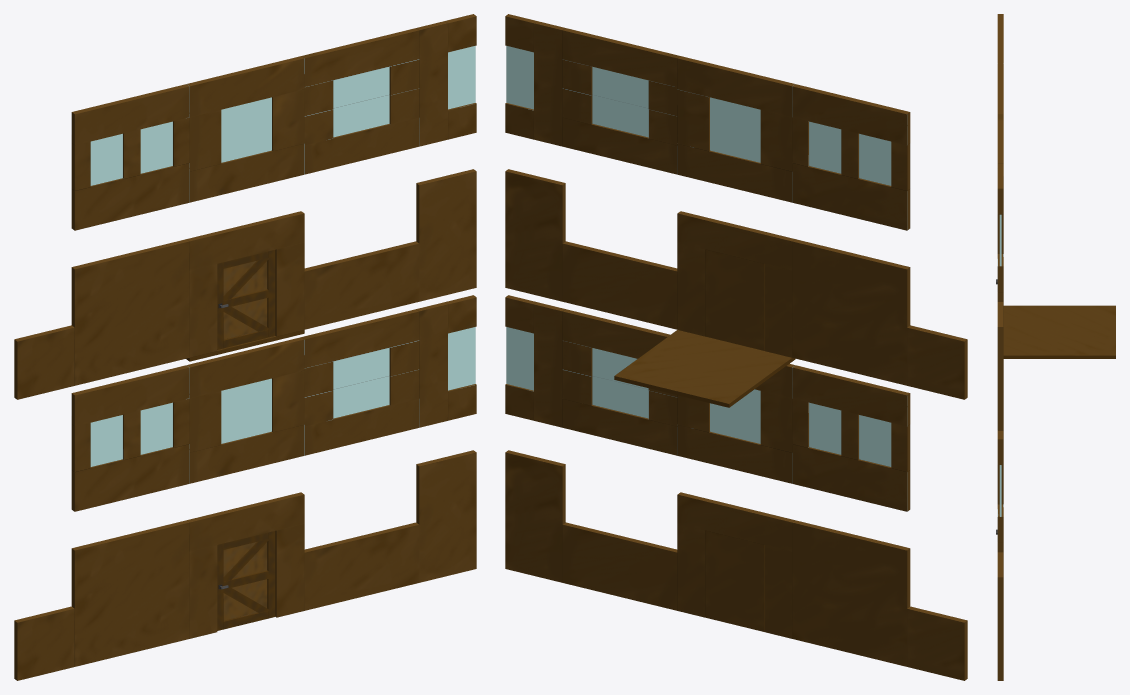
File: BuildingObjects.fbx
3 views of the same model, side by side, from view 1: azimuth 30°, elevation 25°; view 2: azimuth 150°, elevation 25°; view 3: azimuth 270°, elevation 25° (orthographic). The views are drawn at different scales.
Parts seen in each view (by area): view 1: cube_9, cube_31, cube_5, cube_4, cube, cube_11, cube_32, cube_10, cube_33, cube_3, cube_1, cube_2 (+38 smaller); view 2: cube_9, cube_31, cube_5, cube, BasicFloor, cube_4, cube_32, cube_11, cube_10, cube_33, cube_1, cube_2 (+38 smaller); view 3: BasicFloor, cube_10, cube_33, cube_1, cube_16, cube_20, cube_24, cube_28, cube_30, cube_29.
Boxes of the visible parts, box(x1,y1,x2,y2) form: cube_9: box(71, 239, 189, 385); cube_31: box(71, 520, 189, 666); cube_5: box(71, 365, 189, 511); cube_4: box(187, 337, 304, 483); cube: box(187, 492, 304, 638); cube_11: box(304, 241, 419, 329); cube_32: box(304, 522, 419, 610); cube_10: box(416, 169, 476, 301); cube_33: box(416, 450, 476, 582); cube_3: box(301, 309, 419, 397); cube_1: box(416, 295, 476, 427); cube_2: box(304, 370, 419, 455); cube_9: box(792, 239, 910, 385); cube_31: box(792, 520, 910, 666); cube_5: box(792, 365, 910, 511); cube: box(677, 492, 794, 638); BasicFloor: box(614, 330, 795, 407); cube_4: box(677, 363, 794, 483); cube_32: box(562, 522, 677, 610); cube_11: box(562, 241, 677, 329); cube_10: box(505, 169, 565, 301); cube_33: box(505, 450, 565, 582); cube_1: box(505, 295, 565, 427); cube_2: box(562, 370, 677, 455); BasicFloor: box(1003, 305, 1115, 358); cube_10: box(997, 302, 1003, 430); cube_33: box(997, 552, 1003, 680); cube_1: box(997, 430, 1003, 542); cube_16: box(997, 64, 1003, 113); cube_20: box(997, 114, 1003, 163); cube_24: box(997, 14, 1003, 63); cube_28: box(997, 163, 1003, 253); cube_30: box(997, 176, 1003, 214); cube_29: box(997, 254, 1003, 292).
Size of the model in its own units: 1550 by 1781 by 393.
